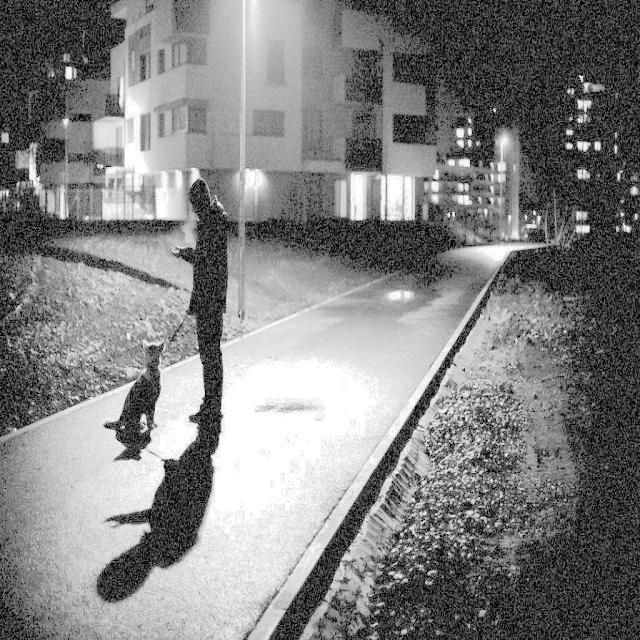Dog: (103, 323, 175, 479)
Person: (179, 171, 229, 493)
